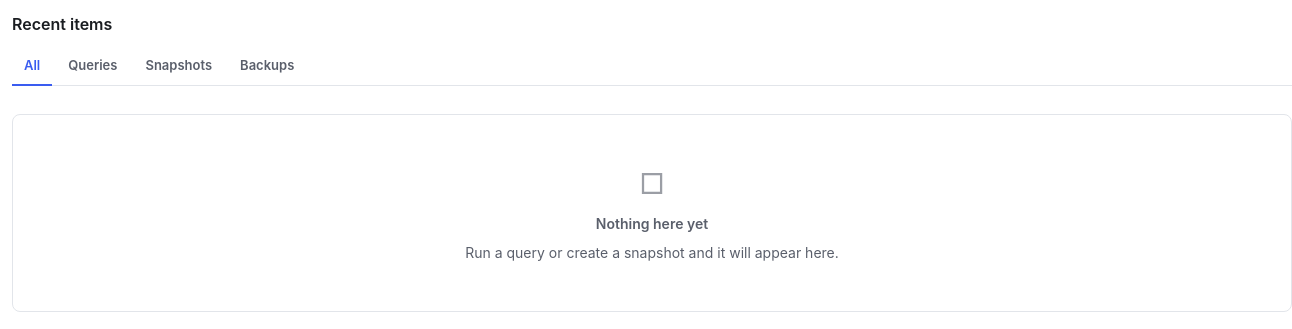
Recent items › shows honest empty states per tab and never invents rows
Expected: the text "Nothing here yet" is shown, [596,212,708,234]
Click the tab "Queries" at (93, 67), box [56,48,130,86]
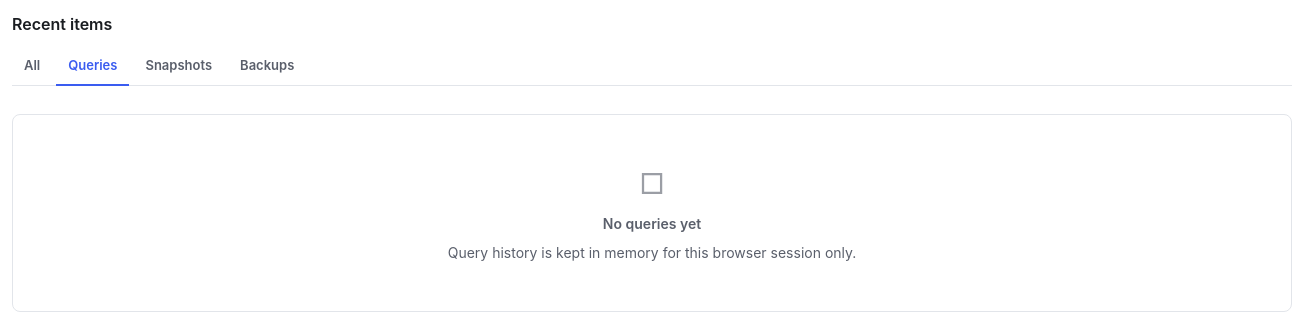
Expected: the text "No queries yet" is shown, [603,212,701,234]
Click the tab "Snapshots" at (179, 67), box [133,48,224,86]
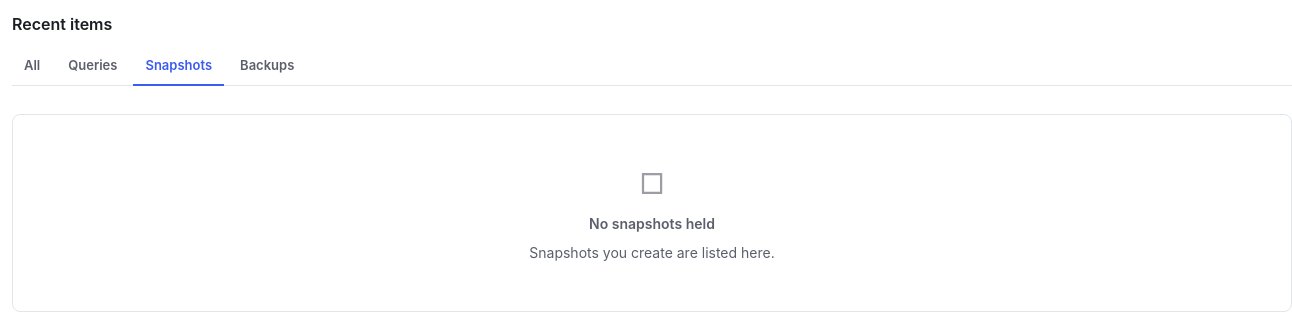
Expected: the text "No snapshots held" is shown, [589,212,715,234]
Click the tab "Backups" at (267, 67), box [228,48,306,86]
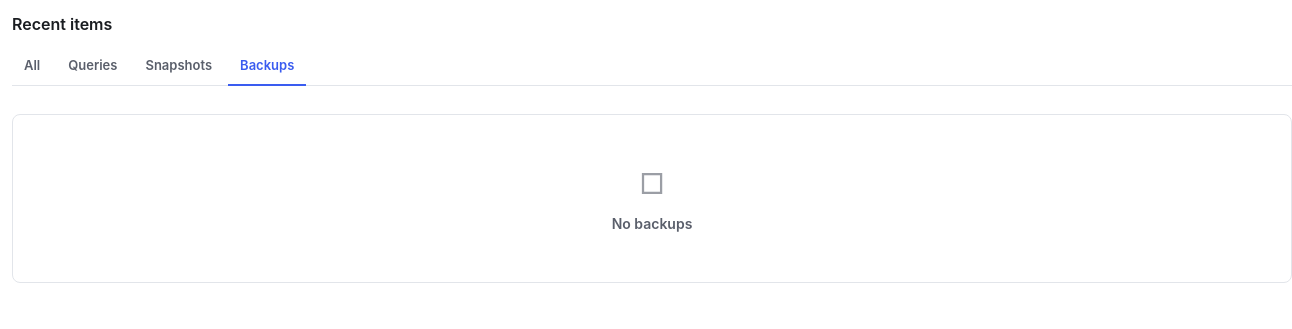
Expected: the text "No backups" is shown, [612,212,692,234]
